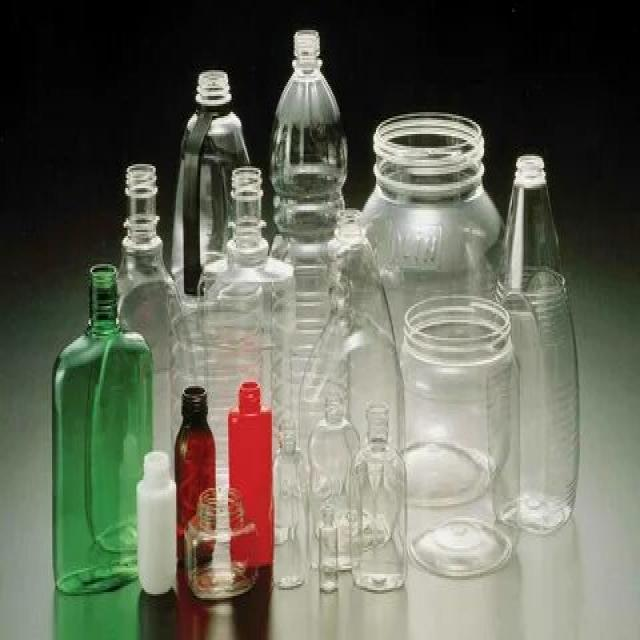blue: (53, 267, 138, 595)
